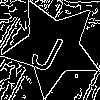J: (27, 22, 71, 75)
